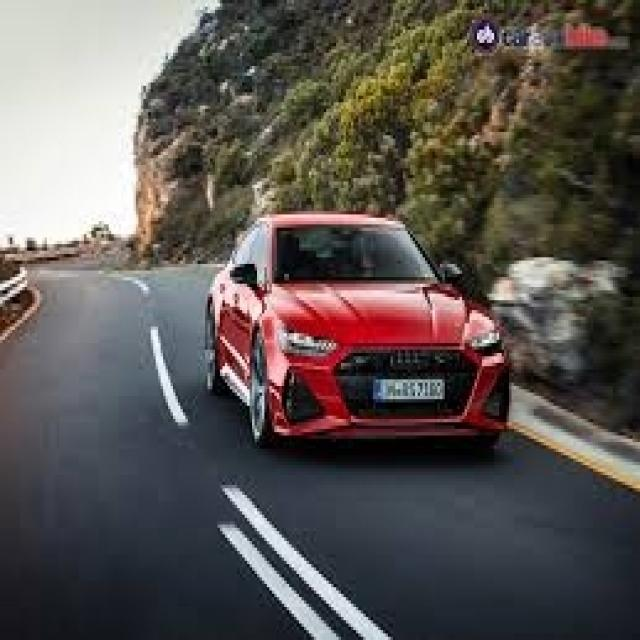red: (209, 214, 515, 466)
